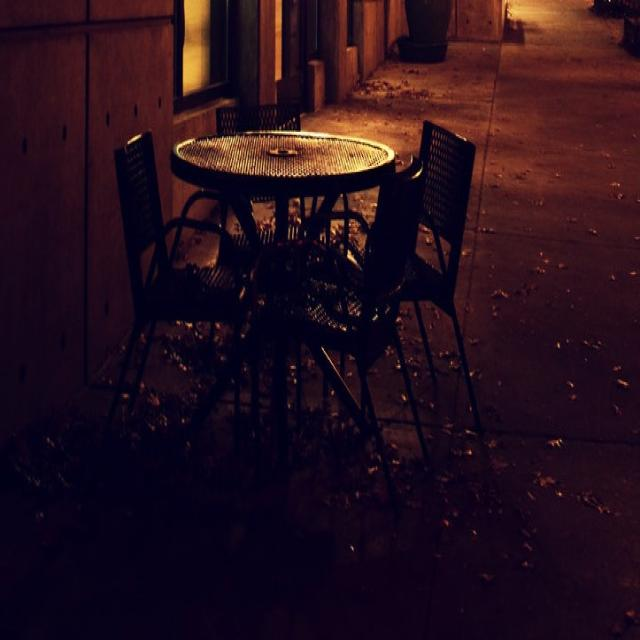Table: (159, 115, 425, 507)
chair: (104, 123, 264, 474), (304, 173, 441, 504), (399, 93, 499, 503), (210, 93, 300, 173)
